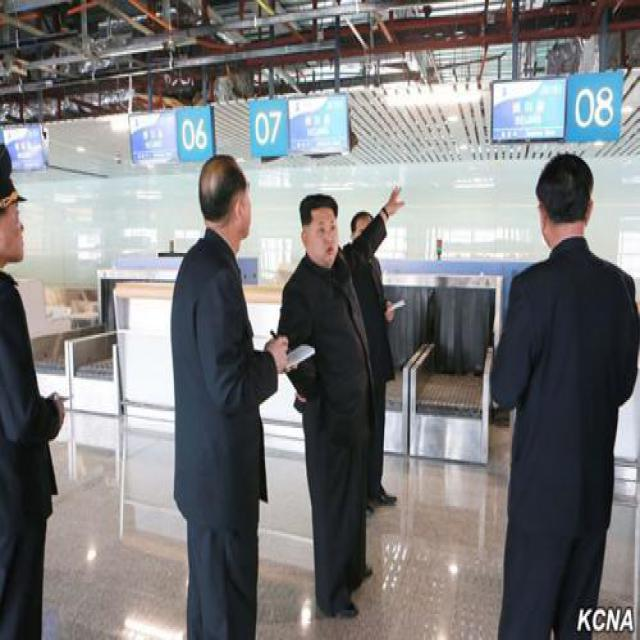head: (530, 146, 598, 252), (194, 148, 257, 252), (294, 185, 343, 267), (351, 204, 378, 254)
person: (476, 146, 635, 633), (153, 146, 286, 636), (156, 144, 290, 622), (275, 188, 391, 625)
